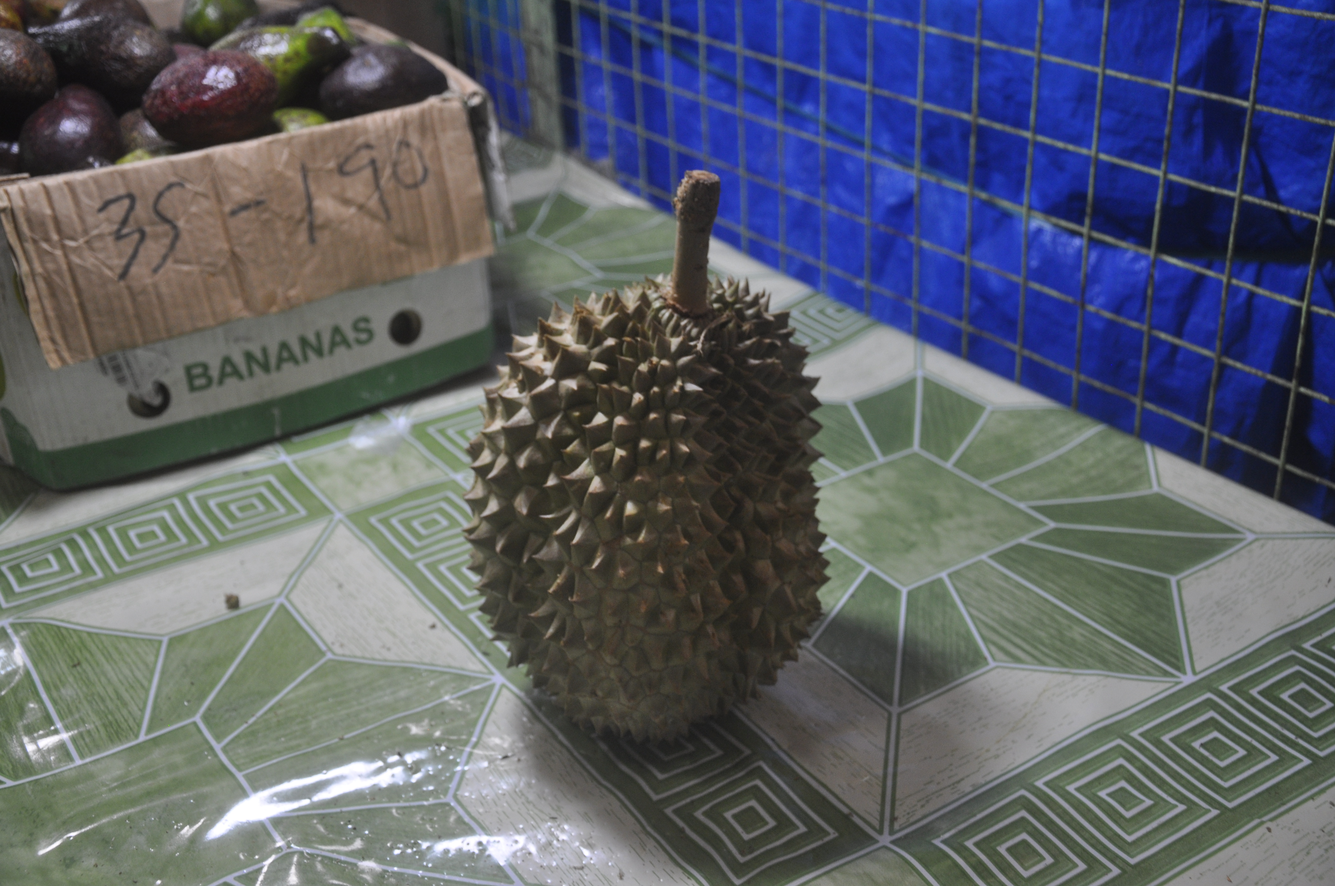mature: (466, 171, 827, 741)
